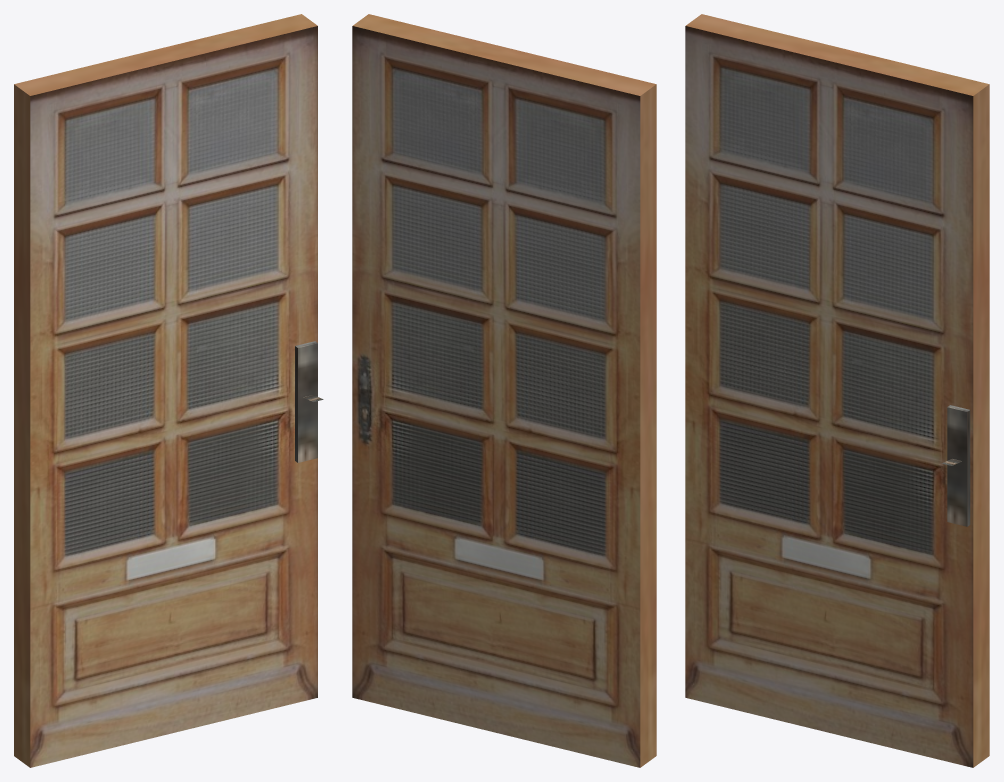
Rendered from casa_demo_porta.glb.
The picture shows the model from 3 angles, left to right: view 1: azimuth 30°, elevation 25°; view 2: azimuth 150°, elevation 25°; view 3: azimuth 330°, elevation 25°; orthographic projection.
Visible parts, largest first — view 1: House_Demo_039_Door_0; view 2: House_Demo_039_Door_0; view 3: House_Demo_039_Door_0.
Boxes of the visible parts, box(x1,y1,x2,y2) form: House_Demo_039_Door_0: box(14, 14, 323, 767); House_Demo_039_Door_0: box(352, 14, 656, 767); House_Demo_039_Door_0: box(685, 14, 989, 767).
Size of the model in its own units: 1.01 by 2.25 by 0.1813.
1 material, 1 textured.
